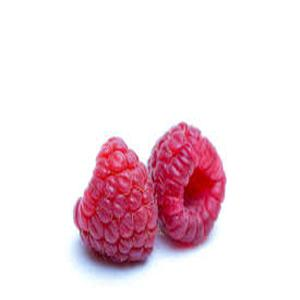raspb: (69, 95, 230, 283)
